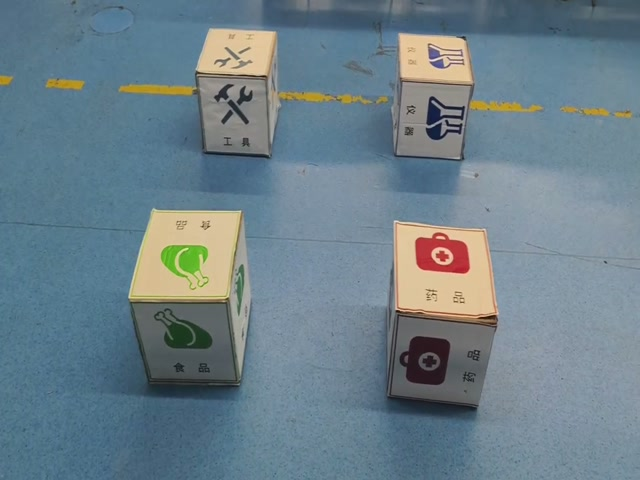Cube_food: (129, 204, 244, 303)
Cube_ins: (395, 29, 475, 87)
Cube_medicine: (390, 220, 499, 321)
Cube_tool: (195, 27, 278, 78)
